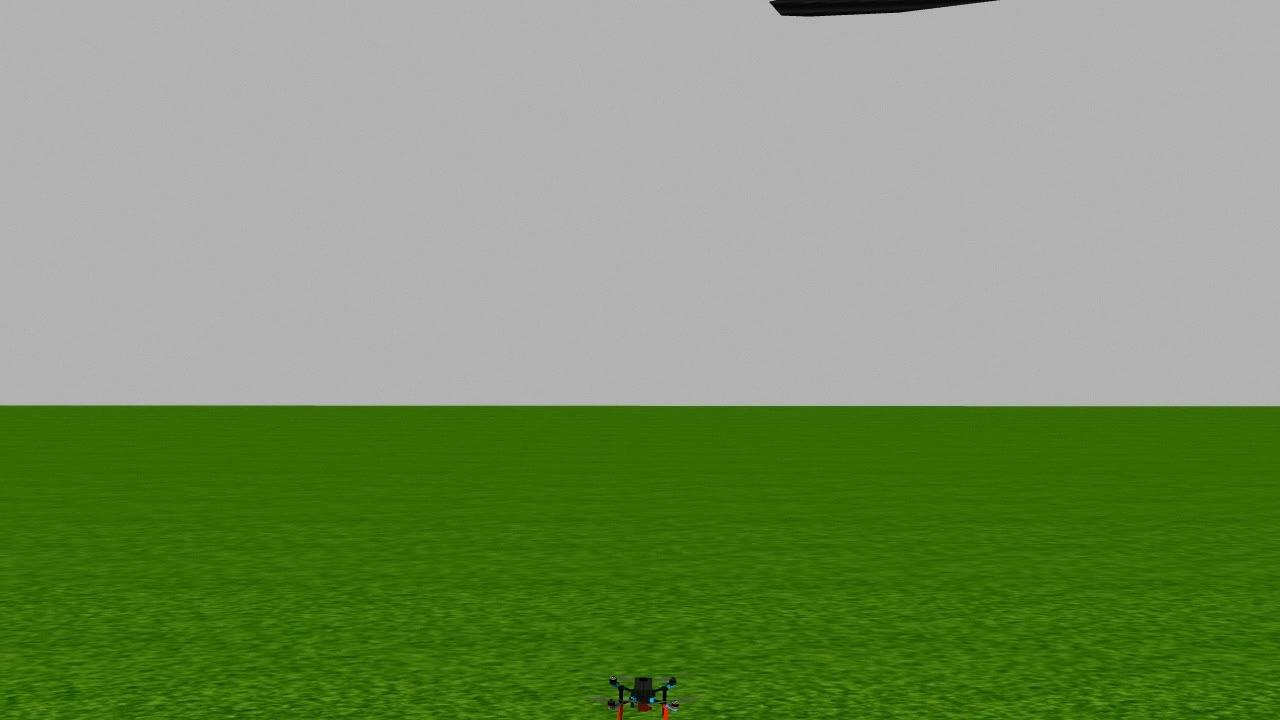UAV: (589, 660, 694, 720)
